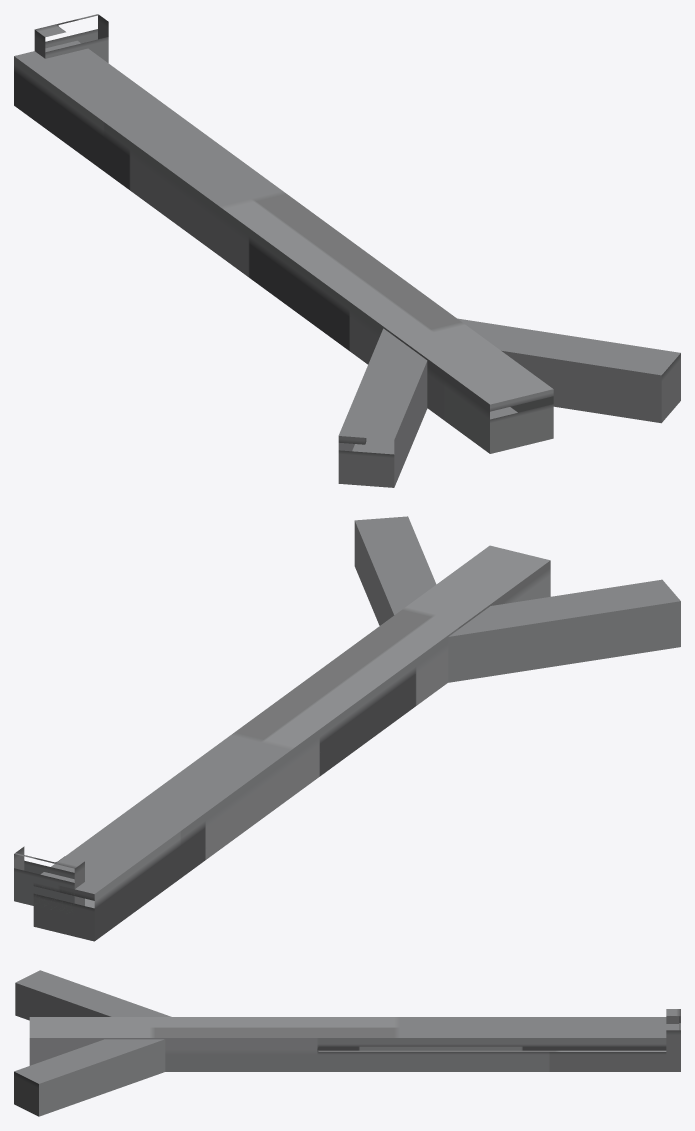
3 views of the same model, one above another, from view 1: azimuth 30°, elevation 25°; view 2: azimuth 150°, elevation 25°; view 3: azimuth 270°, elevation 25° (orthographic). The views are drawn at different scales.
Bounding box in the file's own units: 1.01 × 0.201 × 2.49.
